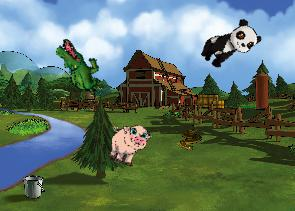crocodile: (44, 36, 113, 99)
panda: (196, 15, 263, 74)
pig: (103, 118, 153, 170)
